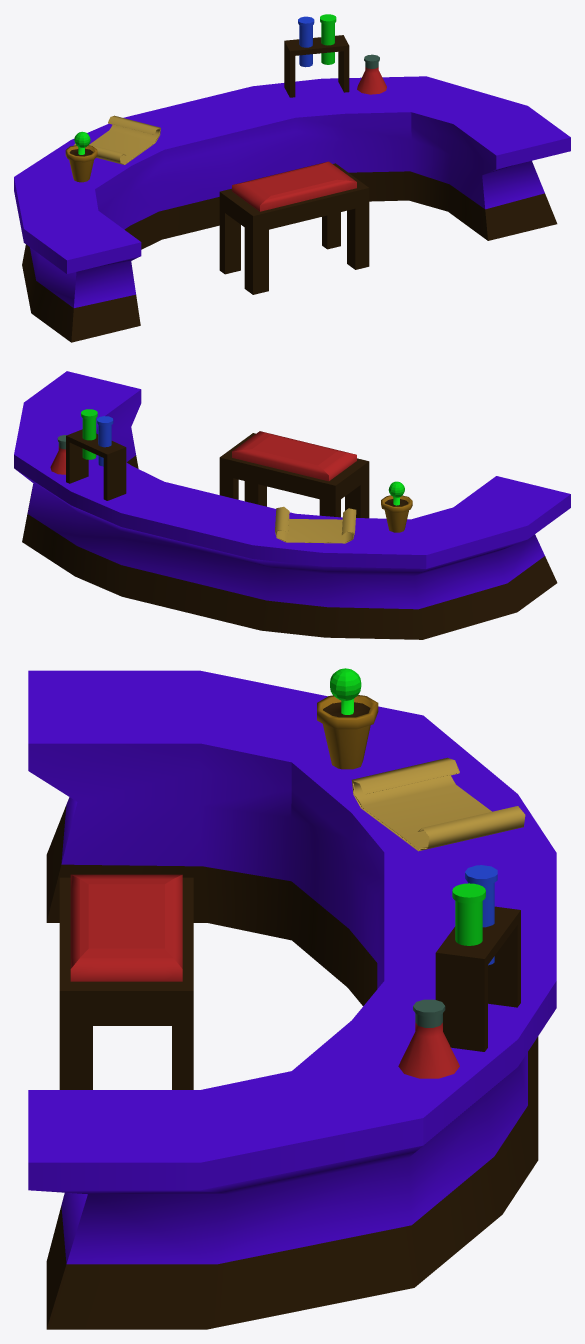
The model's file is Wizard_Hub_Main_Desk.fbx.
3 views of the same model, one above another, from view 1: azimuth 30°, elevation 25°; view 2: azimuth 150°, elevation 25°; view 3: azimuth 270°, elevation 25° (orthographic). The views are drawn at different scales.
Parts seen in each view (by area): view 1: Wizard_Desk; view 2: Wizard_Desk; view 3: Wizard_Desk.
Part boxes in pixels (<box>): Wizard_Desk: <box>14,14,570,342</box>; Wizard_Desk: <box>14,371,570,639</box>; Wizard_Desk: <box>28,668,556,1329</box>.
Bounding box in the file's own units: 14.51 × 4.38 × 6.58.
